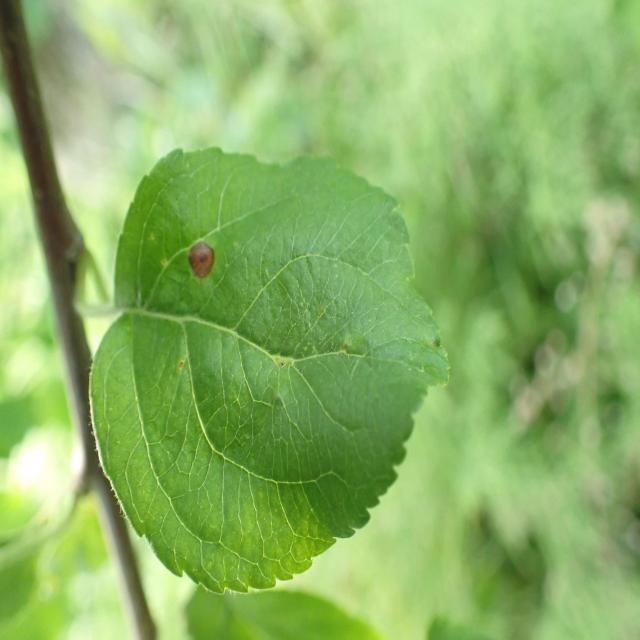frog-eye-leaf-spot: (90, 148, 452, 598)
